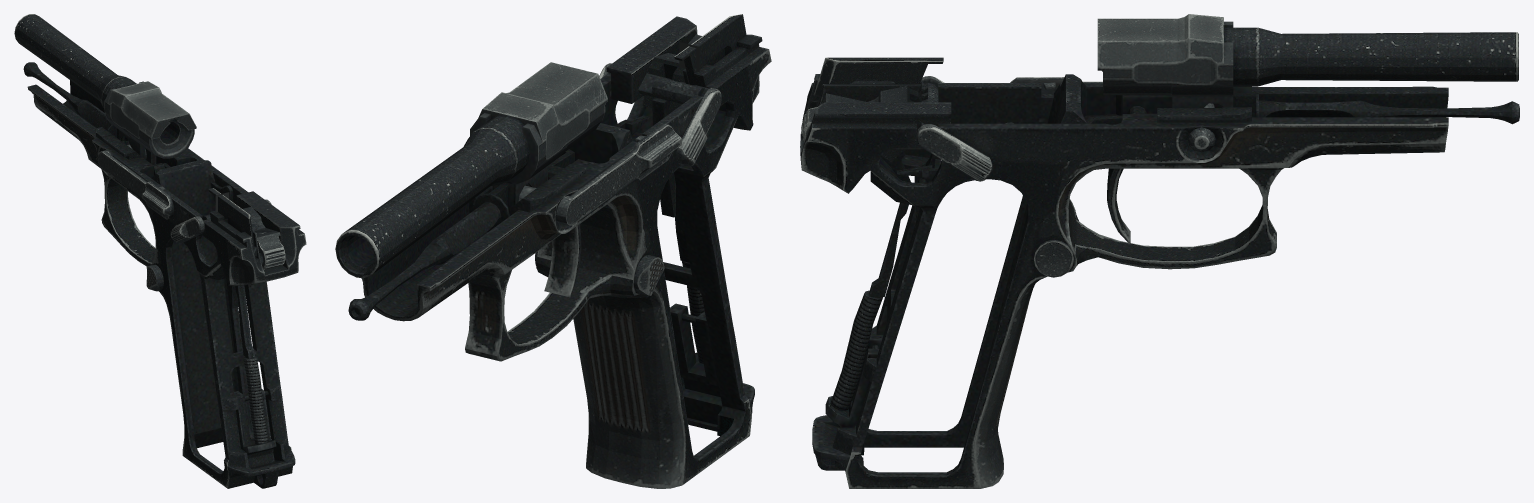
The picture shows the model from 3 angles, left to right: view 1: azimuth 30°, elevation 25°; view 2: azimuth 150°, elevation 25°; view 3: azimuth 270°, elevation 25°; orthographic projection. The views are drawn at different scales.
Parts seen in each view (by area): view 1: TW_576a581d2459771e7b1bc4f1_PZ_Import; view 2: TW_576a581d2459771e7b1bc4f1_PZ_Import; view 3: TW_576a581d2459771e7b1bc4f1_PZ_Import.
Part boxes in pixels (x1=…): TW_576a581d2459771e7b1bc4f1_PZ_Import: x1=14, y1=14, x2=306, y2=488; TW_576a581d2459771e7b1bc4f1_PZ_Import: x1=335, y1=14, x2=771, y2=488; TW_576a581d2459771e7b1bc4f1_PZ_Import: x1=800, y1=14, x2=1519, y2=488.
Size of the model in its own units: 0.0221 by 0.1143 by 0.077.
1 material, 1 textured.
